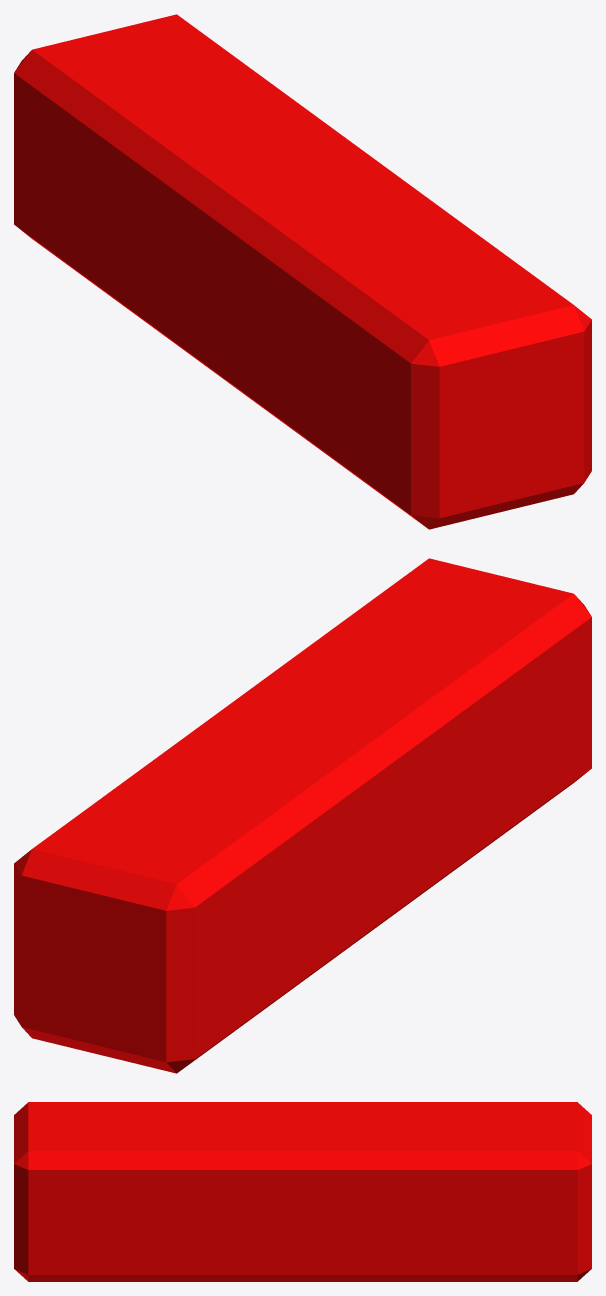
Rendered from SM_StandardBlock1.fbx.
The picture shows the model from 3 angles, top to bottom: view 1: azimuth 30°, elevation 25°; view 2: azimuth 150°, elevation 25°; view 3: azimuth 270°, elevation 25°; orthographic projection. The views are drawn at different scales.
Parts seen in each view (by area): view 1: pCube1; view 2: pCube1; view 3: pCube1.
Boxes of the visible parts, x1,y1,x2,y2 form: pCube1: (14, 14, 591, 529); pCube1: (14, 558, 591, 1073); pCube1: (14, 1102, 591, 1281).
Size of the model in its own units: 10 by 40.01 by 10.
